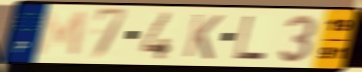3: (277, 12, 318, 65)
4: (138, 10, 172, 62)
7: (85, 7, 129, 64)
K: (181, 12, 226, 62)
L: (232, 14, 267, 62)
M: (33, 9, 89, 59)
